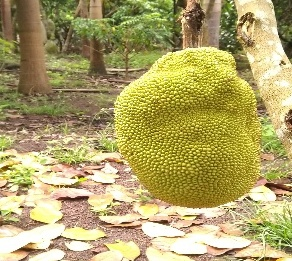Mit: (113, 45, 264, 208)
